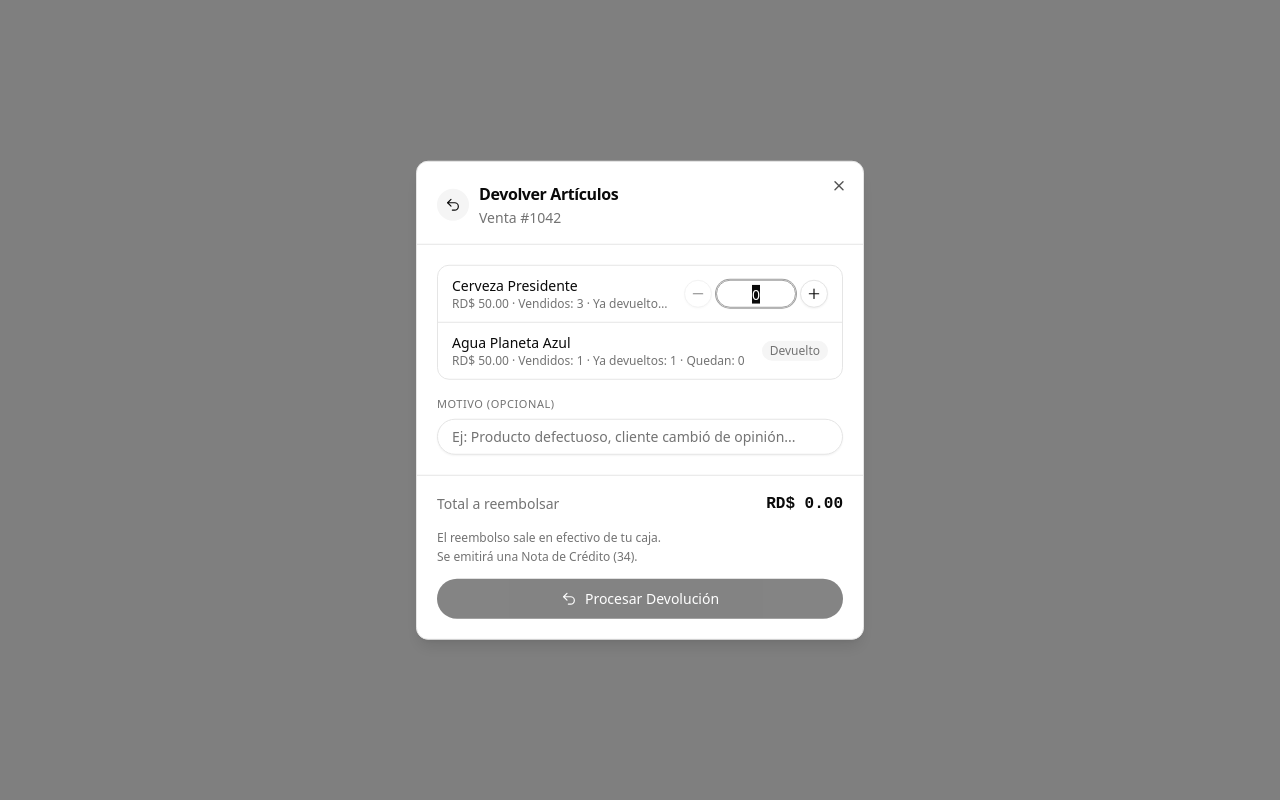
Test case: ReturnItemsDialog › caps the stepper at the remaining quantity and applies the sale discount factor
Check: the button "Procesar Devolución" is disabled, box [437, 578, 843, 618]
Click the button named "Agregar una unidad de Cerveza Presidente".
click(814, 294)  # box [800, 280, 828, 308]
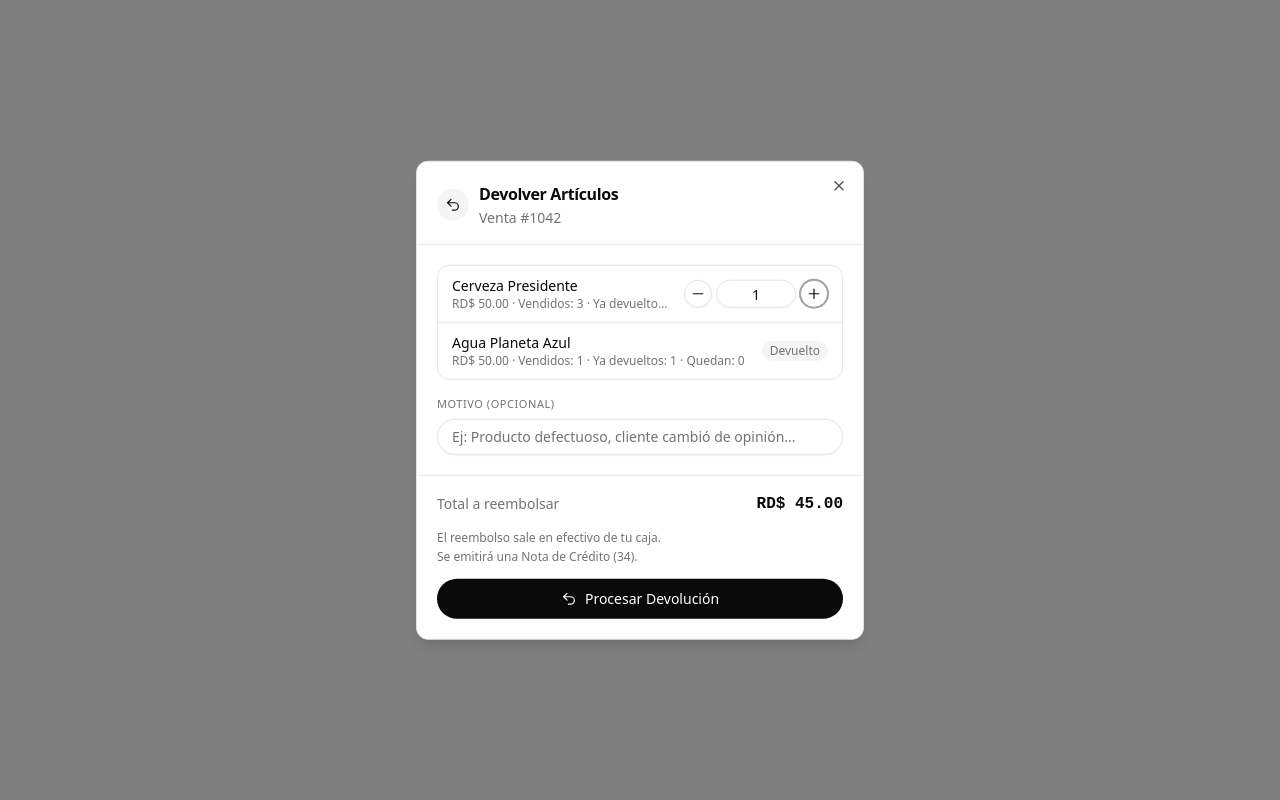
Click the button named "Agregar una unidad de Cerveza Presidente".
click(814, 294)  # box [800, 280, 828, 308]
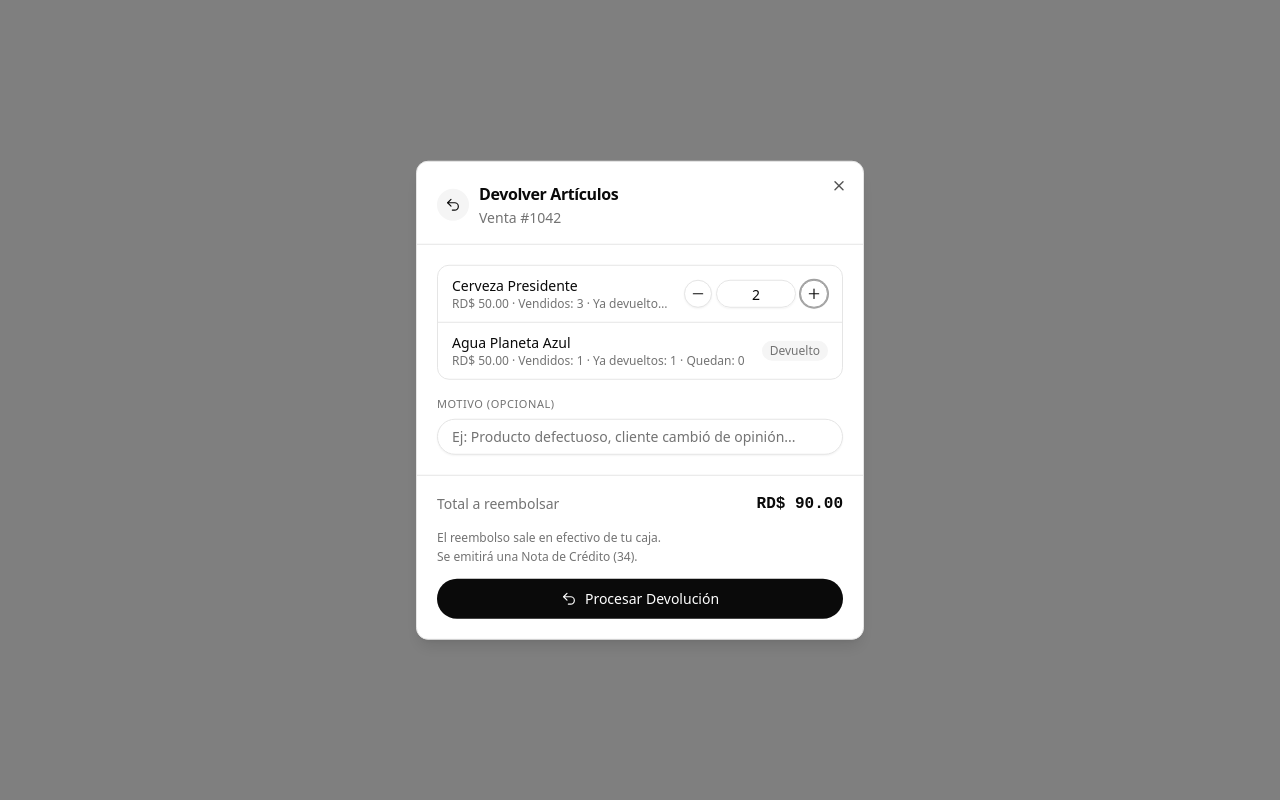
Check: the button "Procesar Devolución" is enabled, box [437, 578, 843, 618]
Check: the text "RD$ 90.00" is shown, box [757, 491, 843, 515]
Click the button named "Agregar una unidad de Cerveza Presidente".
click(814, 294)  # box [800, 280, 828, 308]
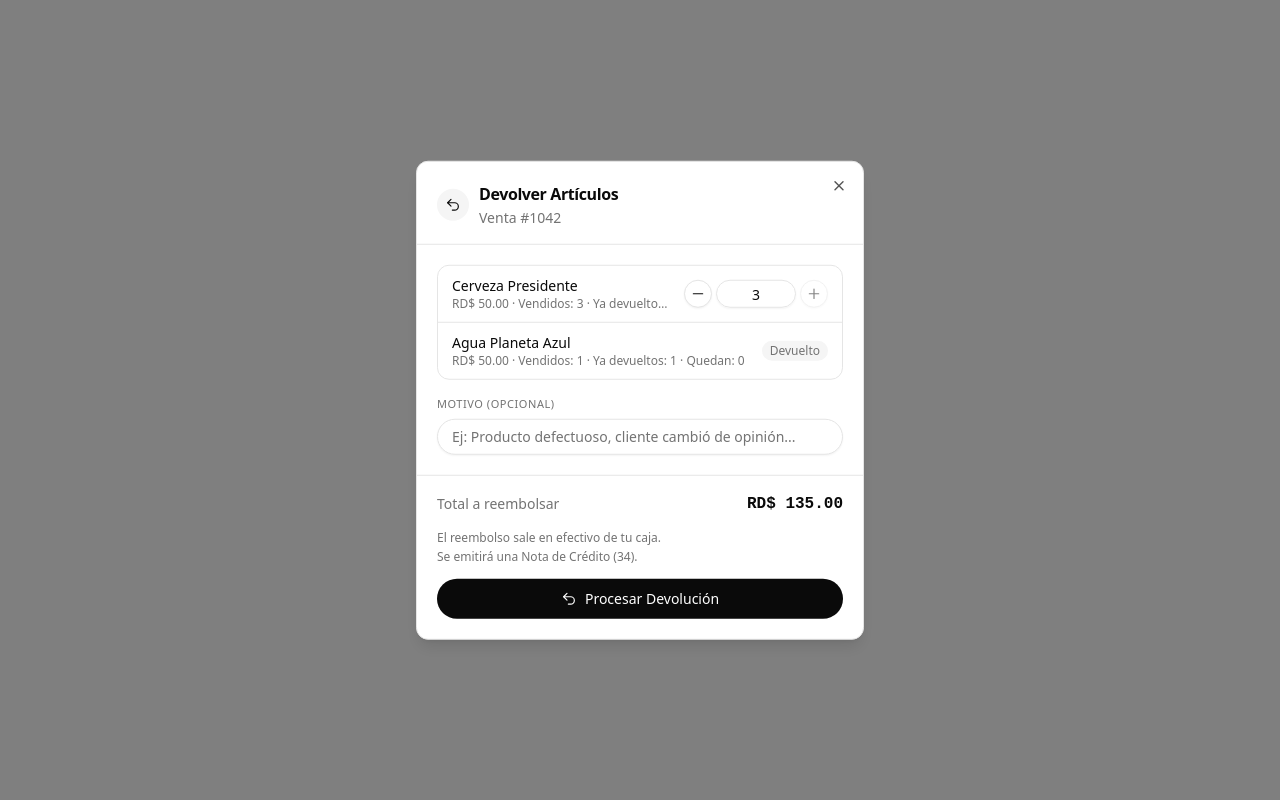
Check: the button named "Agregar una unidad de Cerveza Presidente" is disabled, box [800, 280, 828, 308]
Check: the text "RD$ 135.00" is shown, box [747, 491, 843, 515]
